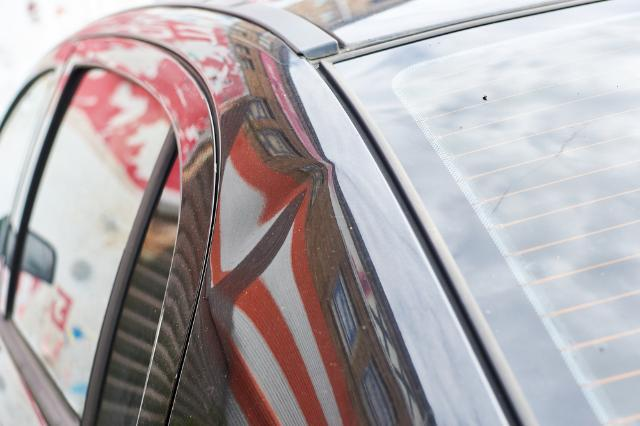dent: (211, 162, 333, 330)
